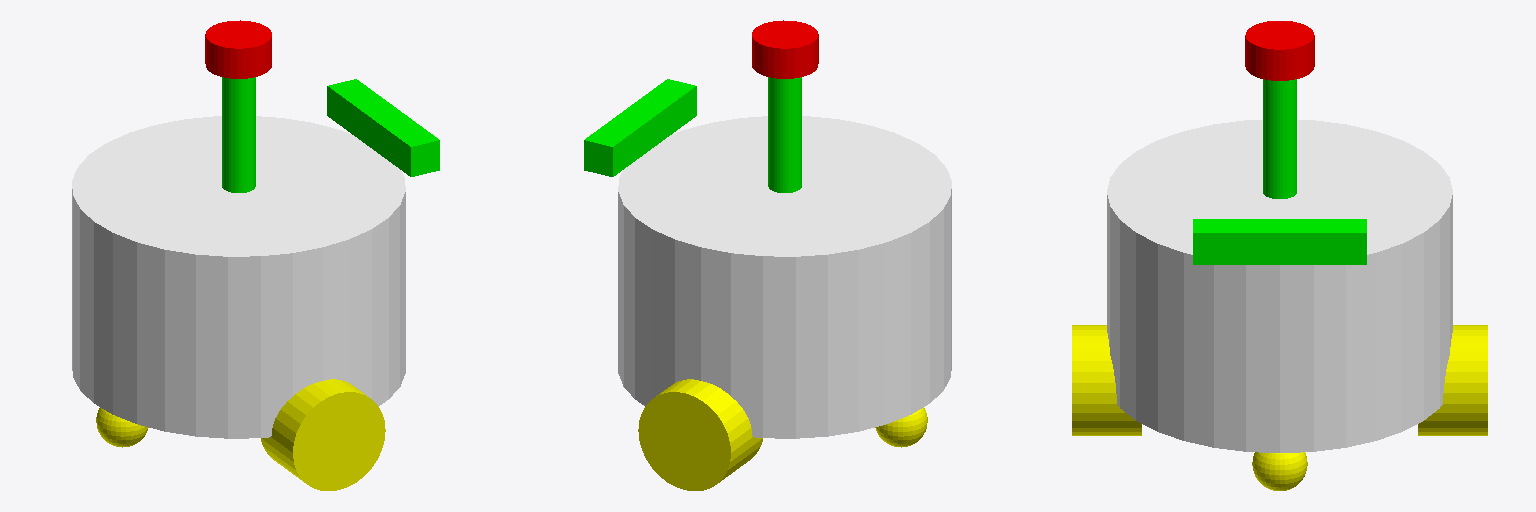
URDF robot description (fishbot):
<?xml version="1.0" ?>
<!-- =================================================================================== -->
<!-- |    This document was autogenerated by xacro from src/fishbot_description/urdf/fishbot/fishbot.urdf.xacro | -->
<!-- |    EDITING THIS FILE BY HAND IS NOT RECOMMENDED                                 | -->
<!-- =================================================================================== -->
<robot name="fishbot">
  <gazebo>
    <plugin filename="libgazebo_ros_diff_drive.so" name="diff_drive">
      <ros>
        <namespace>/</namespace>
        <remapping>cmd_vel:=cmd_vel</remapping>
        <remapping>odom:=odom</remapping>
      </ros>
      <update_rate>30</update_rate>
      <!-- wheels -->
      <left_joint>left_wheel_joint</left_joint>
      <right_joint>right_wheel_joint</right_joint>
      <!-- kinematics -->
      <wheel_separation>0.2</wheel_separation>
      <wheel_diameter>0.064</wheel_diameter>
      <!-- limits -->
      <max_wheel_torque>20.0</max_wheel_torque>
      <max_wheel_acceleration>1.0</max_wheel_acceleration>
      <!-- output -->
      <publish_odom>true</publish_odom>
      <publish_odom_tf>true</publish_odom_tf>
      <publish_wheel_tf>true</publish_wheel_tf>
      <odometry_frame>odom</odometry_frame>
      <robot_base_frame>base_footprint</robot_base_frame>
    </plugin>
  </gazebo>
  <!-- 底盘 -->
  <link name="base_footprint"/>
  <joint name="base_joint" type="fixed">
    <parent link="base_footprint"/>
    <child link="base_link"/>
    <origin rpy="0 0 0" xyz="0 0 0.091"/>
  </joint>
  <link name="base_link">
    <!-- 部件外观描述 -->
    <visual>
      <!-- 沿自己几何中心的偏移与旋转 -->
      <origin rpy="0 0 0" xyz="0 0 0"/>
      <!-- 几何形状 -->
      <geometry>
        <!-- 圆柱体， 半径为0.10m，高度为0.12m -->
        <cylinder length="0.12" radius="0.1"/>
      </geometry>
      <!-- 材料属性 -->
      <material name="white">
        <color rgba="1.0 1.0 1.0 0.5"/>
      </material>
    </visual>
    <!-- 碰撞属性 -->
    <collision>
      <origin rpy="0 0 0" xyz="0 0 0"/>
      <geometry>
        <cylinder length="0.12" radius="0.1"/>
      </geometry>
      <material name="white">
        <color rgba="1.0 1.0 1.0 0.5"/>
      </material>
    </collision>
    <inertial>
      <mass value="1.0"/>
      <inertia ixx="0.0037000000000000006" ixy="0.0" ixz="0.0" iyy="0.0037000000000000006" iyz="0.0" izz="0.005000000000000001"/>
    </inertial>
  </link>
  <gazebo reference="imu_link">
    <material>Gazebo/Black</material>
  </gazebo>
  <link name="imu_link">
    <visual>
      <origin rpy="0 0 0" xyz="0 0 0"/>
      <geometry>
        <box size="0.02 0.02 0.02"/>
      </geometry>
      <material name="black">
        <color rgba="0 0 0 0.8"/>
      </material>
    </visual>
    <!-- 碰撞检测 -->
    <collision>
      <origin rpy="0 0 0" xyz="0 0 0"/>
      <geometry>
        <box size="0.02 0.02 0.02"/>
      </geometry>
      <material name="black">
        <color rgba="0 0 0 0.8"/>
      </material>
    </collision>
    <inertial>
      <mass value="1.0"/>
      <inertia ixx="6.666666666666667e-05" ixy="0.0" ixz="0.0" iyy="6.666666666666667e-05" iyz="0.0" izz="6.666666666666667e-05"/>
    </inertial>
  </link>
  <!-- 机器人IMU与身体的连接 -->
  <joint name="imu_joint" type="fixed">
    <parent link="base_link"/>
    <child link="imu_link"/>
    <!-- 子部件相对父部件的偏移与旋转 -->
    <origin xyz="0 0 0.02"/>
  </joint>
  <gazebo reference="laser_cylinder_link">
    <material>Gazebo/Black</material>
  </gazebo>
  <gazebo reference="laser_link">
    <material>Gazebo/Black</material>
  </gazebo>
  <!-- 雷达支撑杆 -->
  <link name="laser_cylinder_link">
    <visual>
      <origin rpy="0 0 0" xyz="0 0 0"/>
      <geometry>
        <cylinder length="0.10" radius="0.01"/>
      </geometry>
      <material name="green">
        <color rgba="0.0 1.0 0.0 0.8"/>
      </material>
    </visual>
    <!-- 碰撞检测 -->
    <collision>
      <origin rpy="0 0 0" xyz="0 0 0"/>
      <geometry>
        <cylinder length="0.10" radius="0.01"/>
      </geometry>
      <material name="green">
        <color rgba="0.0 1.0 0.0 0.8"/>
      </material>
    </collision>
    <inertial>
      <mass value="1.0"/>
      <inertia ixx="0.0008583333333333335" ixy="0.0" ixz="0.0" iyy="0.0008583333333333335" iyz="0.0" izz="5e-05"/>
    </inertial>
  </link>
  <joint name="laser_cylinder_joint" type="fixed">
    <parent link="base_link"/>
    <child link="laser_cylinder_link"/>
    <origin xyz="0 0 0.1"/>
  </joint>
  <!-- 雷达 -->
  <link name="laser_link">
    <visual>
      <origin rpy="0 0 0" xyz="0 0 0"/>
      <geometry>
        <cylinder length="0.02" radius="0.02"/>
      </geometry>
      <material name="red">
        <color rgba="1.0 0.0 0.0 0.8"/>
      </material>
    </visual>
    <!-- 碰撞检测 -->
    <collision>
      <origin rpy="0 0 0" xyz="0 0 0"/>
      <geometry>
        <cylinder length="0.02" radius="0.02"/>
      </geometry>
      <material name="red">
        <color rgba="1.0 0.0 0.0 0.8"/>
      </material>
    </collision>
  </link>
  <joint name="laser_joint" type="fixed">
    <parent link="laser_cylinder_link"/>
    <child link="laser_link"/>
    <origin xyz="0 0 0.05"/>
  </joint>
  <gazebo reference="camera_link">
    <material>Gazebo/Green</material>
  </gazebo>
  <link name="camera_link">
    <visual>
      <origin rpy="0 0 0" xyz="0 0 0.0"/>
      <geometry>
        <box size="0.02 0.10 0.02"/>
      </geometry>
      <material name="green">
        <color rgba="0.0 1.0 0.0 0.8"/>
      </material>
    </visual>
    <!-- 碰撞检测 -->
    <collision>
      <origin rpy="0 0 0" xyz="0 0 0.0"/>
      <geometry>
        <box size="0.02 0.10 0.02"/>
      </geometry>
      <material name="green">
        <color rgba="0.0 1.0 0.0 0.8"/>
      </material>
    </collision>
    <inertial>
      <mass value="1.0"/>
      <inertia ixx="6.666666666666667e-05" ixy="0.0" ixz="0.0" iyy="0.0008666666666666667" iyz="0.0" izz="0.0008666666666666667"/>
    </inertial>
  </link>
  <!-- 机器人相机与身体的连接 -->
  <joint name="camera_joint" type="fixed">
    <parent link="base_link"/>
    <child link="camera_link"/>
    <!-- 子部件相对父部件的偏移与旋转 -->
    <origin xyz="0.1 0 0.075"/>
  </joint>
  <gazebo reference="left_wheel_link">
    <material>Gazebo/Blue</material>
  </gazebo>
  <link name="left_wheel_link">
    <visual>
      <origin rpy="1.57079 0 0" xyz="0 0 0"/>
      <geometry>
        <cylinder length="0.04" radius="0.032"/>
      </geometry>
      <material name="yellow">
        <color rgba="1.0 1.0 0.0 0.8"/>
      </material>
    </visual>
    <!-- 碰撞检测 -->
    <collision>
      <origin rpy="1.57079 0 0" xyz="0 0 0"/>
      <geometry>
        <cylinder length="0.04" radius="0.032"/>
      </geometry>
      <material name="yellow">
        <color rgba="1.0 1.0 0.0 0.8"/>
      </material>
    </collision>
    <inertial>
      <mass value="1.0"/>
      <inertia ixx="0.00038933333333333333" ixy="0.0" ixz="0.0" iyy="0.00038933333333333333" iyz="0.0" izz="0.000512"/>
    </inertial>
  </link>
  <joint name="left_wheel_joint" type="continuous">
    <parent link="base_link"/>
    <child link="left_wheel_link"/>
    <origin xyz="0 0.1 -0.06"/>
    <axis xyz="0 1 0"/>
  </joint>
  <!-- 修改摩擦力系数 -->
  <gazebo reference="left_wheel_link">
    <!-- 切向摩擦系数 -->
    <mu1 value="20.0"/>
    <!-- 法向摩擦系数 -->
    <mu2 value="20.0"/>
    <!-- 接触刚度系数 -->
    <kp value="1000000000.0"/>
    <!-- 阻尼系数 -->
    <kd value="1.0"/>
  </gazebo>
  <gazebo reference="right_wheel_link">
    <material>Gazebo/Blue</material>
  </gazebo>
  <link name="right_wheel_link">
    <visual>
      <origin rpy="1.57079 0 0" xyz="0 0 0"/>
      <geometry>
        <cylinder length="0.04" radius="0.032"/>
      </geometry>
      <material name="yellow">
        <color rgba="1.0 1.0 0.0 0.8"/>
      </material>
    </visual>
    <!-- 碰撞检测 -->
    <collision>
      <origin rpy="1.57079 0 0" xyz="0 0 0"/>
      <geometry>
        <cylinder length="0.04" radius="0.032"/>
      </geometry>
      <material name="yellow">
        <color rgba="1.0 1.0 0.0 0.8"/>
      </material>
    </collision>
    <inertial>
      <mass value="1.0"/>
      <inertia ixx="0.00038933333333333333" ixy="0.0" ixz="0.0" iyy="0.00038933333333333333" iyz="0.0" izz="0.000512"/>
    </inertial>
  </link>
  <joint name="right_wheel_joint" type="continuous">
    <parent link="base_link"/>
    <child link="right_wheel_link"/>
    <origin xyz="0 -0.1 -0.06"/>
    <axis xyz="0 1 0"/>
  </joint>
  <!-- 修改摩擦力系数 -->
  <gazebo reference="right_wheel_link">
    <!-- 切向摩擦系数 -->
    <mu1 value="20.0"/>
    <!-- 法向摩擦系数 -->
    <mu2 value="20.0"/>
    <!-- 接触刚度系数 -->
    <kp value="1000000000.0"/>
    <!-- 阻尼系数 -->
    <kd value="1.0"/>
  </gazebo>
  <gazebo reference="front_caster_link">
    <material>Gazebo/Blue</material>
  </gazebo>
  <link name="front_caster_link">
    <visual>
      <origin rpy="0 0 0" xyz="0 0 0"/>
      <geometry>
        <sphere radius="0.016"/>
      </geometry>
      <material name="yellow">
        <color rgba="1.0 1.0 0.0 0.8"/>
      </material>
    </visual>
    <!-- 碰撞检测 -->
    <collision>
      <origin rpy="0 0 0" xyz="0 0 0"/>
      <geometry>
        <sphere radius="0.016"/>
      </geometry>
      <material name="yellow">
        <color rgba="1.0 1.0 0.0 0.8"/>
      </material>
    </collision>
    <inertial>
      <mass value="1.0"/>
      <inertia ixx="0.0001024" ixy="0.0" ixz="0.0" iyy="0.0001024" iyz="0.0" izz="0.0001024"/>
    </inertial>
  </link>
  <joint name="front_caster_joint" type="fixed">
    <parent link="base_link"/>
    <child link="front_caster_link"/>
    <origin xyz="0.08 0.0 -0.076"/>
    <axis xyz="0 0 0"/>
  </joint>
  <!-- 修改摩擦力系数 -->
  <gazebo reference="front_caster_link">
    <!-- 切向摩擦系数 -->
    <mu1 value="0.0"/>
    <!-- 法向摩擦系数 -->
    <mu2 value="0.0"/>
    <!-- 接触刚度系数 -->
    <kp value="1000000000.0"/>
    <!-- 阻尼系数 -->
    <kd value="1.0"/>
  </gazebo>
  <gazebo reference="back_caster_link">
    <material>Gazebo/Blue</material>
  </gazebo>
  <link name="back_caster_link">
    <visual>
      <origin rpy="0 0 0" xyz="0 0 0"/>
      <geometry>
        <sphere radius="0.016"/>
      </geometry>
      <material name="yellow">
        <color rgba="1.0 1.0 0.0 0.8"/>
      </material>
    </visual>
    <!-- 碰撞检测 -->
    <collision>
      <origin rpy="0 0 0" xyz="0 0 0"/>
      <geometry>
        <sphere radius="0.016"/>
      </geometry>
      <material name="yellow">
        <color rgba="1.0 1.0 0.0 0.8"/>
      </material>
    </collision>
    <inertial>
      <mass value="1.0"/>
      <inertia ixx="0.0001024" ixy="0.0" ixz="0.0" iyy="0.0001024" iyz="0.0" izz="0.0001024"/>
    </inertial>
  </link>
  <joint name="back_caster_joint" type="fixed">
    <parent link="base_link"/>
    <child link="back_caster_link"/>
    <origin xyz="-0.08 0.0 -0.076"/>
    <axis xyz="0 0 0"/>
  </joint>
  <!-- 修改摩擦力系数 -->
  <gazebo reference="back_caster_link">
    <!-- 切向摩擦系数 -->
    <mu1 value="0.0"/>
    <!-- 法向摩擦系数 -->
    <mu2 value="0.0"/>
    <!-- 接触刚度系数 -->
    <kp value="1000000000.0"/>
    <!-- 阻尼系数 -->
    <kd value="1.0"/>
  </gazebo>
</robot>

--- What the picture shows (computed from the rendered views, not written in the file) ---
3 views of the same robot in one strip: view 1: azimuth 30°, elevation 25°; view 2: azimuth 150°, elevation 25°; view 3: azimuth 270°, elevation 25° (orthographic).
Model fishbot with 10 links and 9 joints (2 continuous, 7 fixed), rooted at base_footprint, posed all joints at 0.
Links seen in each view (by area): view 1: base_link, right_wheel_link, camera_link, laser_cylinder_link, laser_link, back_caster_link; view 2: base_link, left_wheel_link, camera_link, laser_cylinder_link, laser_link, back_caster_link; view 3: base_link, camera_link, left_wheel_link, right_wheel_link, laser_cylinder_link, laser_link, front_caster_link.
Link boxes in pixels (x1,y1,x2,y2): base_link: (72, 116, 405, 438); right_wheel_link: (261, 379, 385, 490); camera_link: (327, 79, 439, 176); laser_cylinder_link: (222, 77, 255, 192); laser_link: (205, 20, 271, 78); back_caster_link: (96, 407, 148, 447); base_link: (618, 116, 951, 438); left_wheel_link: (638, 379, 762, 490); camera_link: (584, 79, 696, 176); laser_cylinder_link: (768, 77, 801, 192); laser_link: (752, 20, 818, 78); back_caster_link: (875, 407, 927, 447); base_link: (1107, 120, 1452, 452); camera_link: (1193, 219, 1366, 264); left_wheel_link: (1418, 325, 1487, 435); right_wheel_link: (1072, 325, 1141, 435); laser_cylinder_link: (1263, 79, 1296, 198); laser_link: (1245, 21, 1314, 80); front_caster_link: (1252, 452, 1307, 490).
Size in the robot's own frame: 0.21 by 0.24 by 0.252 metres.
Geometry: primitives only (box / cylinder / sphere), no mesh files.
